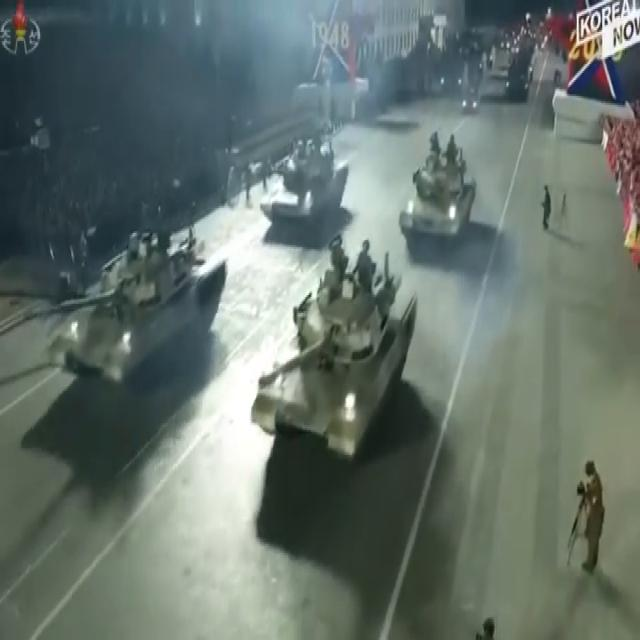north tank: (244, 227, 437, 501), (51, 190, 241, 428), (379, 103, 478, 270), (259, 98, 365, 253)
